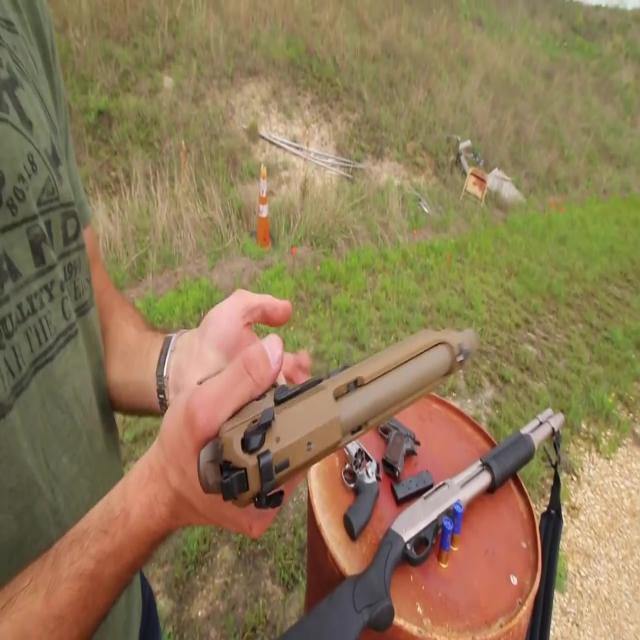Weapon: (167, 296, 578, 640)
